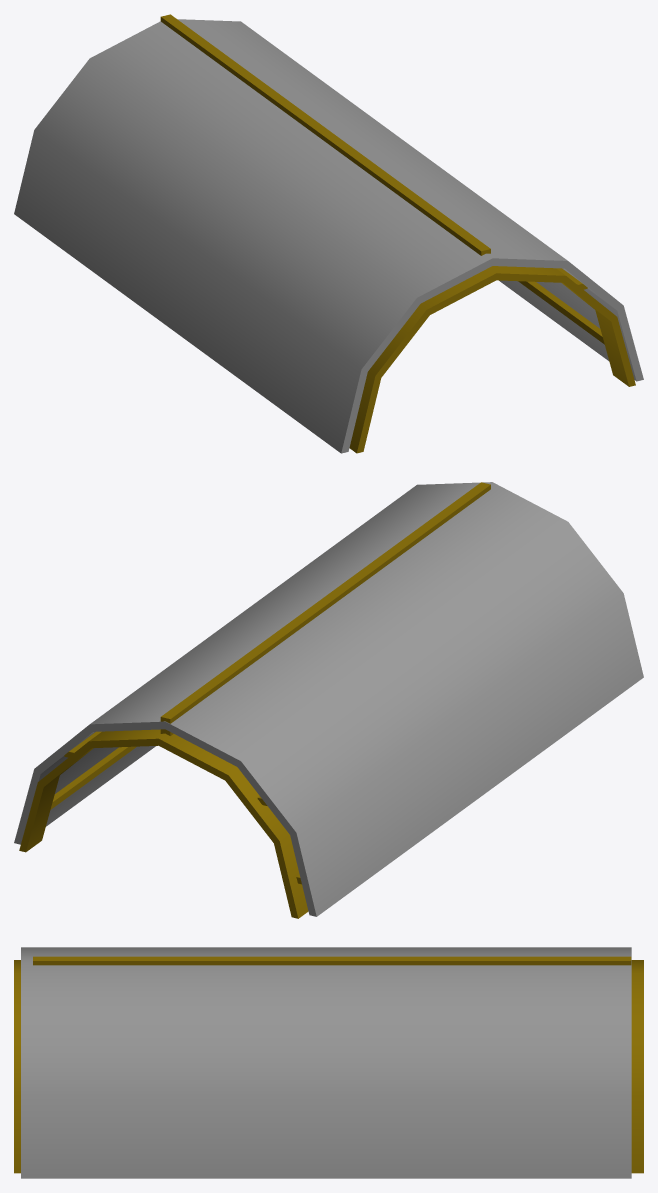
The model's file is hangar.FBX.
3 views of the same model, one above another, from view 1: azimuth 30°, elevation 25°; view 2: azimuth 150°, elevation 25°; view 3: azimuth 270°, elevation 25° (orthographic). The views are drawn at different scales.
Visible parts, largest first — view 1: hangar_cover; view 2: hangar_cover; view 3: hangar_cover.
Boxes of the visible parts, x1=… form: hangar_cover: x1=14, y1=14, x2=643, y2=453; hangar_cover: x1=14, y1=482, x2=643, y2=918; hangar_cover: x1=14, y1=947, x2=643, y2=1178.
Size of the model in its own units: 100 by 51.31 by 194.
